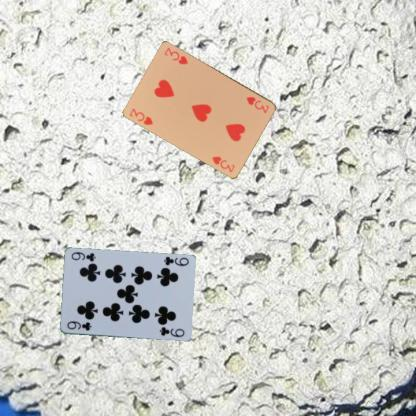3h: (127, 105, 154, 126), (244, 94, 270, 115)
9c: (64, 318, 93, 333), (161, 254, 190, 268)
